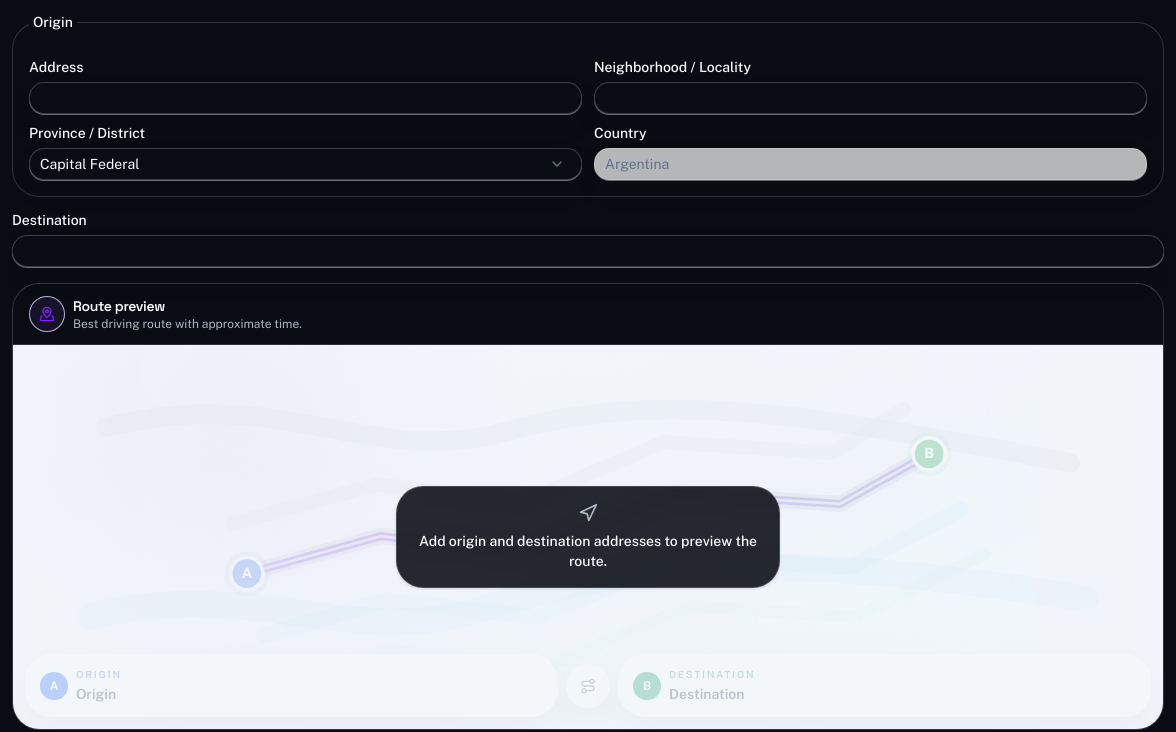
Test: PGFlexRoutePreview › requires at least three characters in split origin fields before requesting a route
In the field labelled "Address": [306, 98] box [29,82,582,114], type "Av"
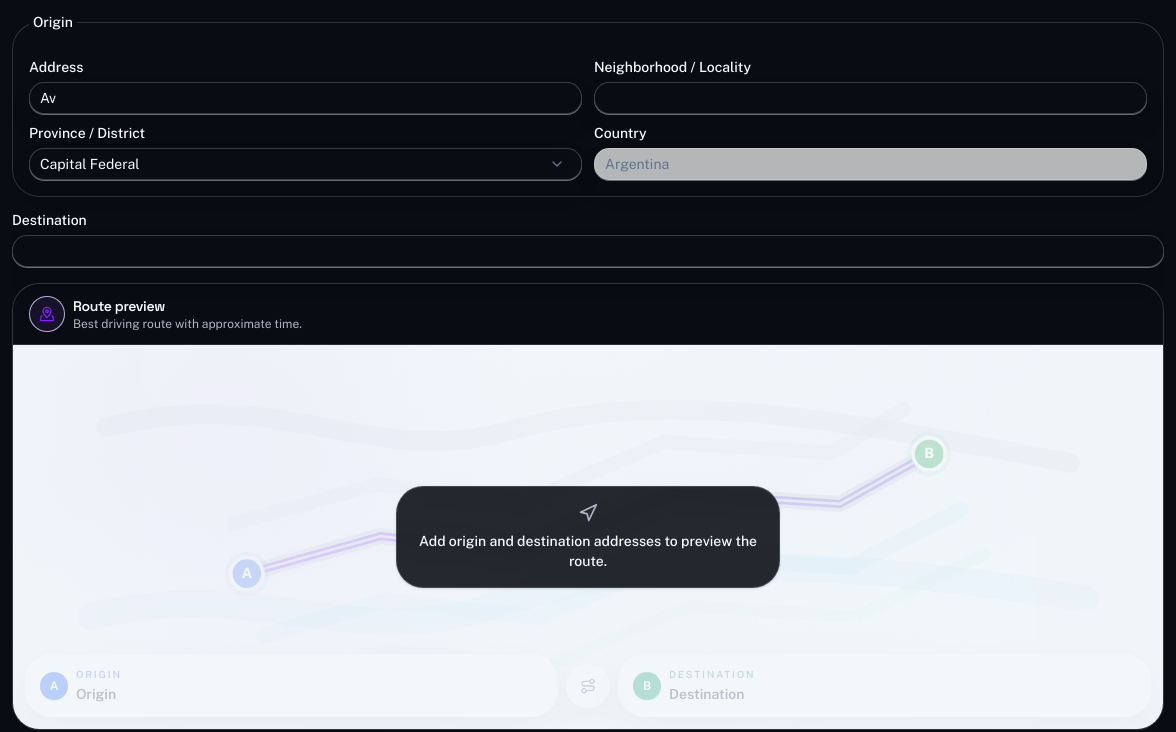
In the field labelled "Neighborhood / Locality": [870, 98] box [594,82,1147,114], type "Vi"
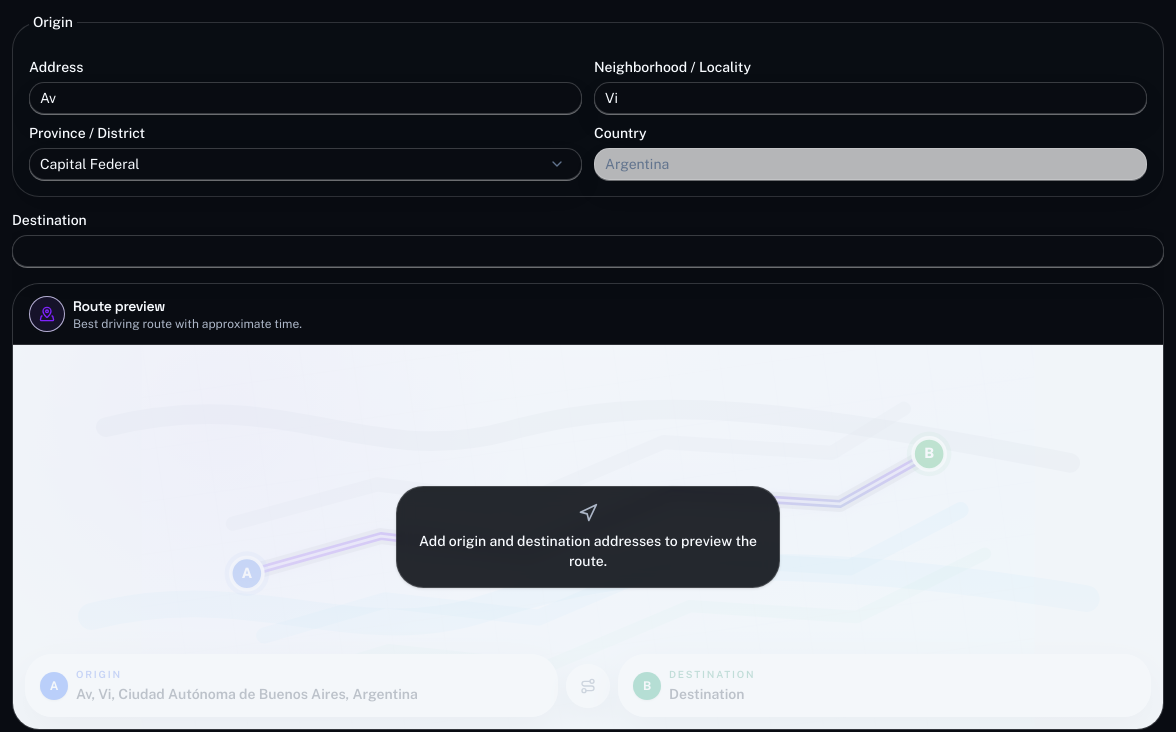
In the field labelled "Destination": [588, 251] box [12,235,1164,267], type "Humboldt 2433, CABA"
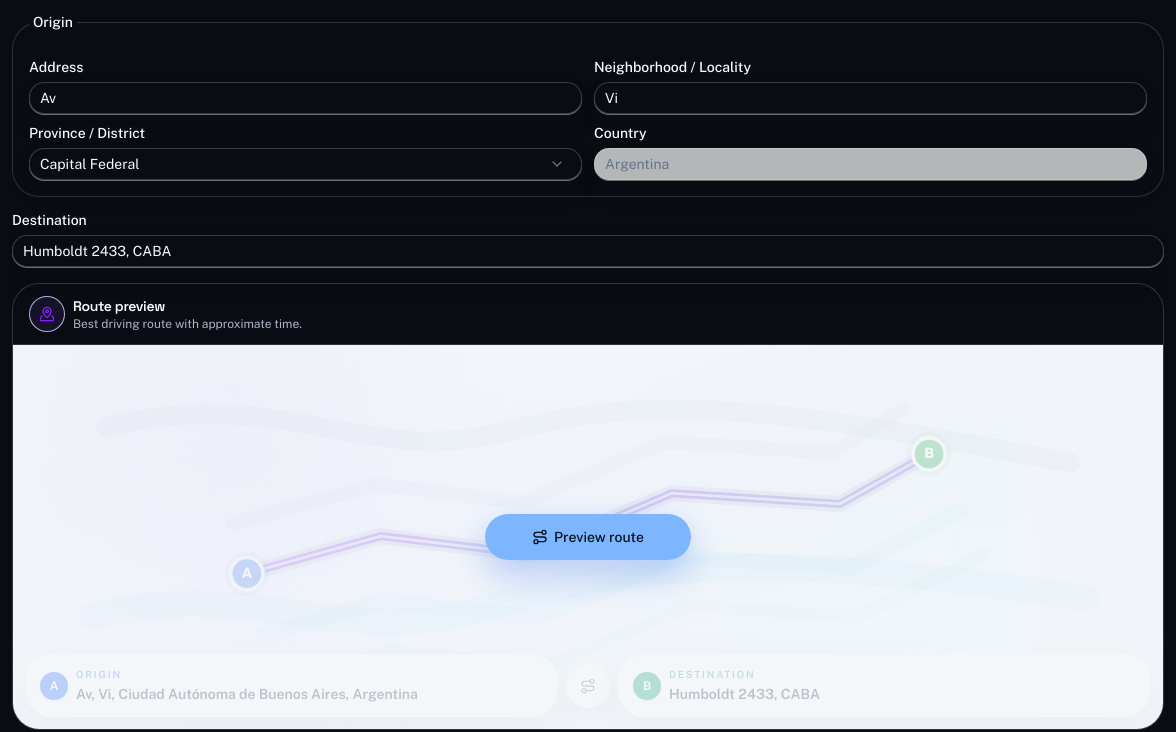
Click the button with test id "pgflex-route-center-preview": [588, 537] box [484,513,692,561]
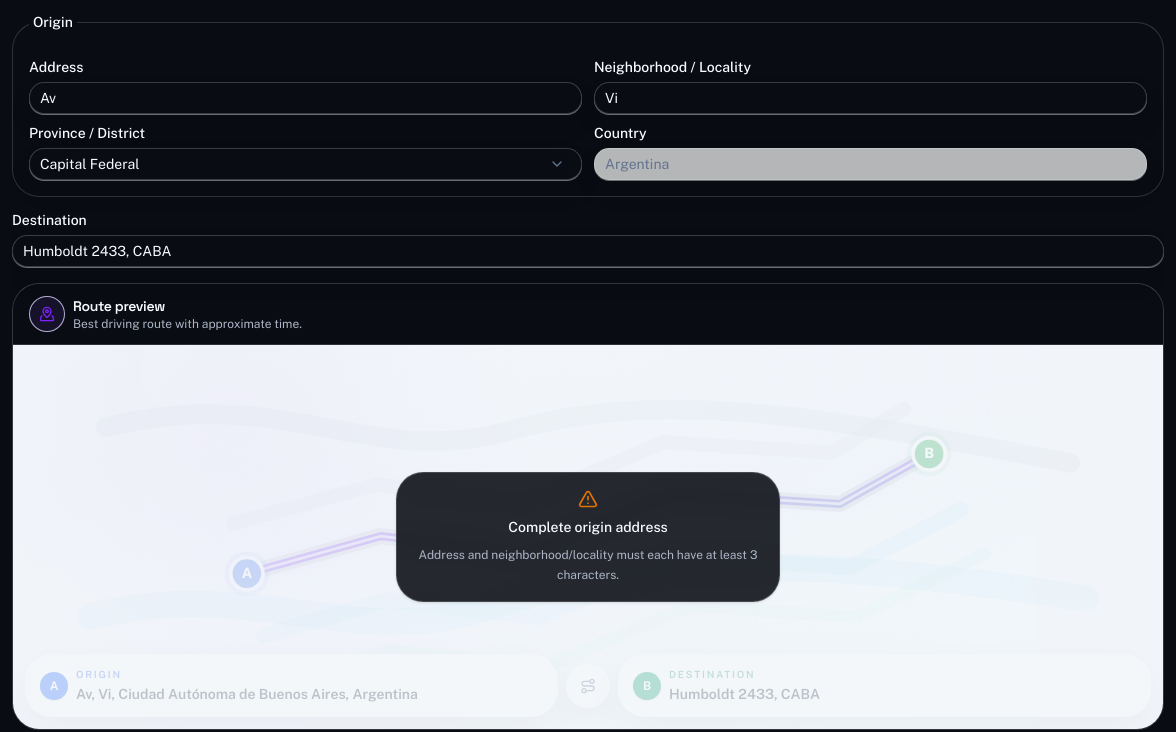
Now the message shows "Address and neighborhood/locality must each have at least 3 characters.", box [418,548,757,582]
